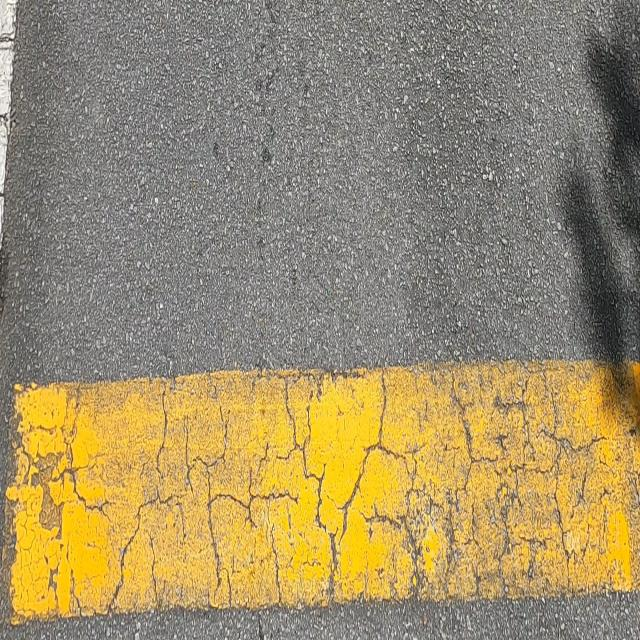Retak-Buaya: (72, 359, 613, 623)
